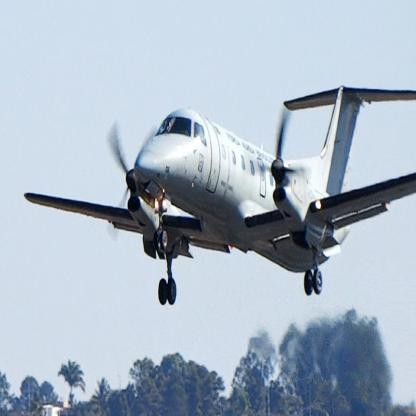CIV_Plane: (21, 84, 416, 306)
